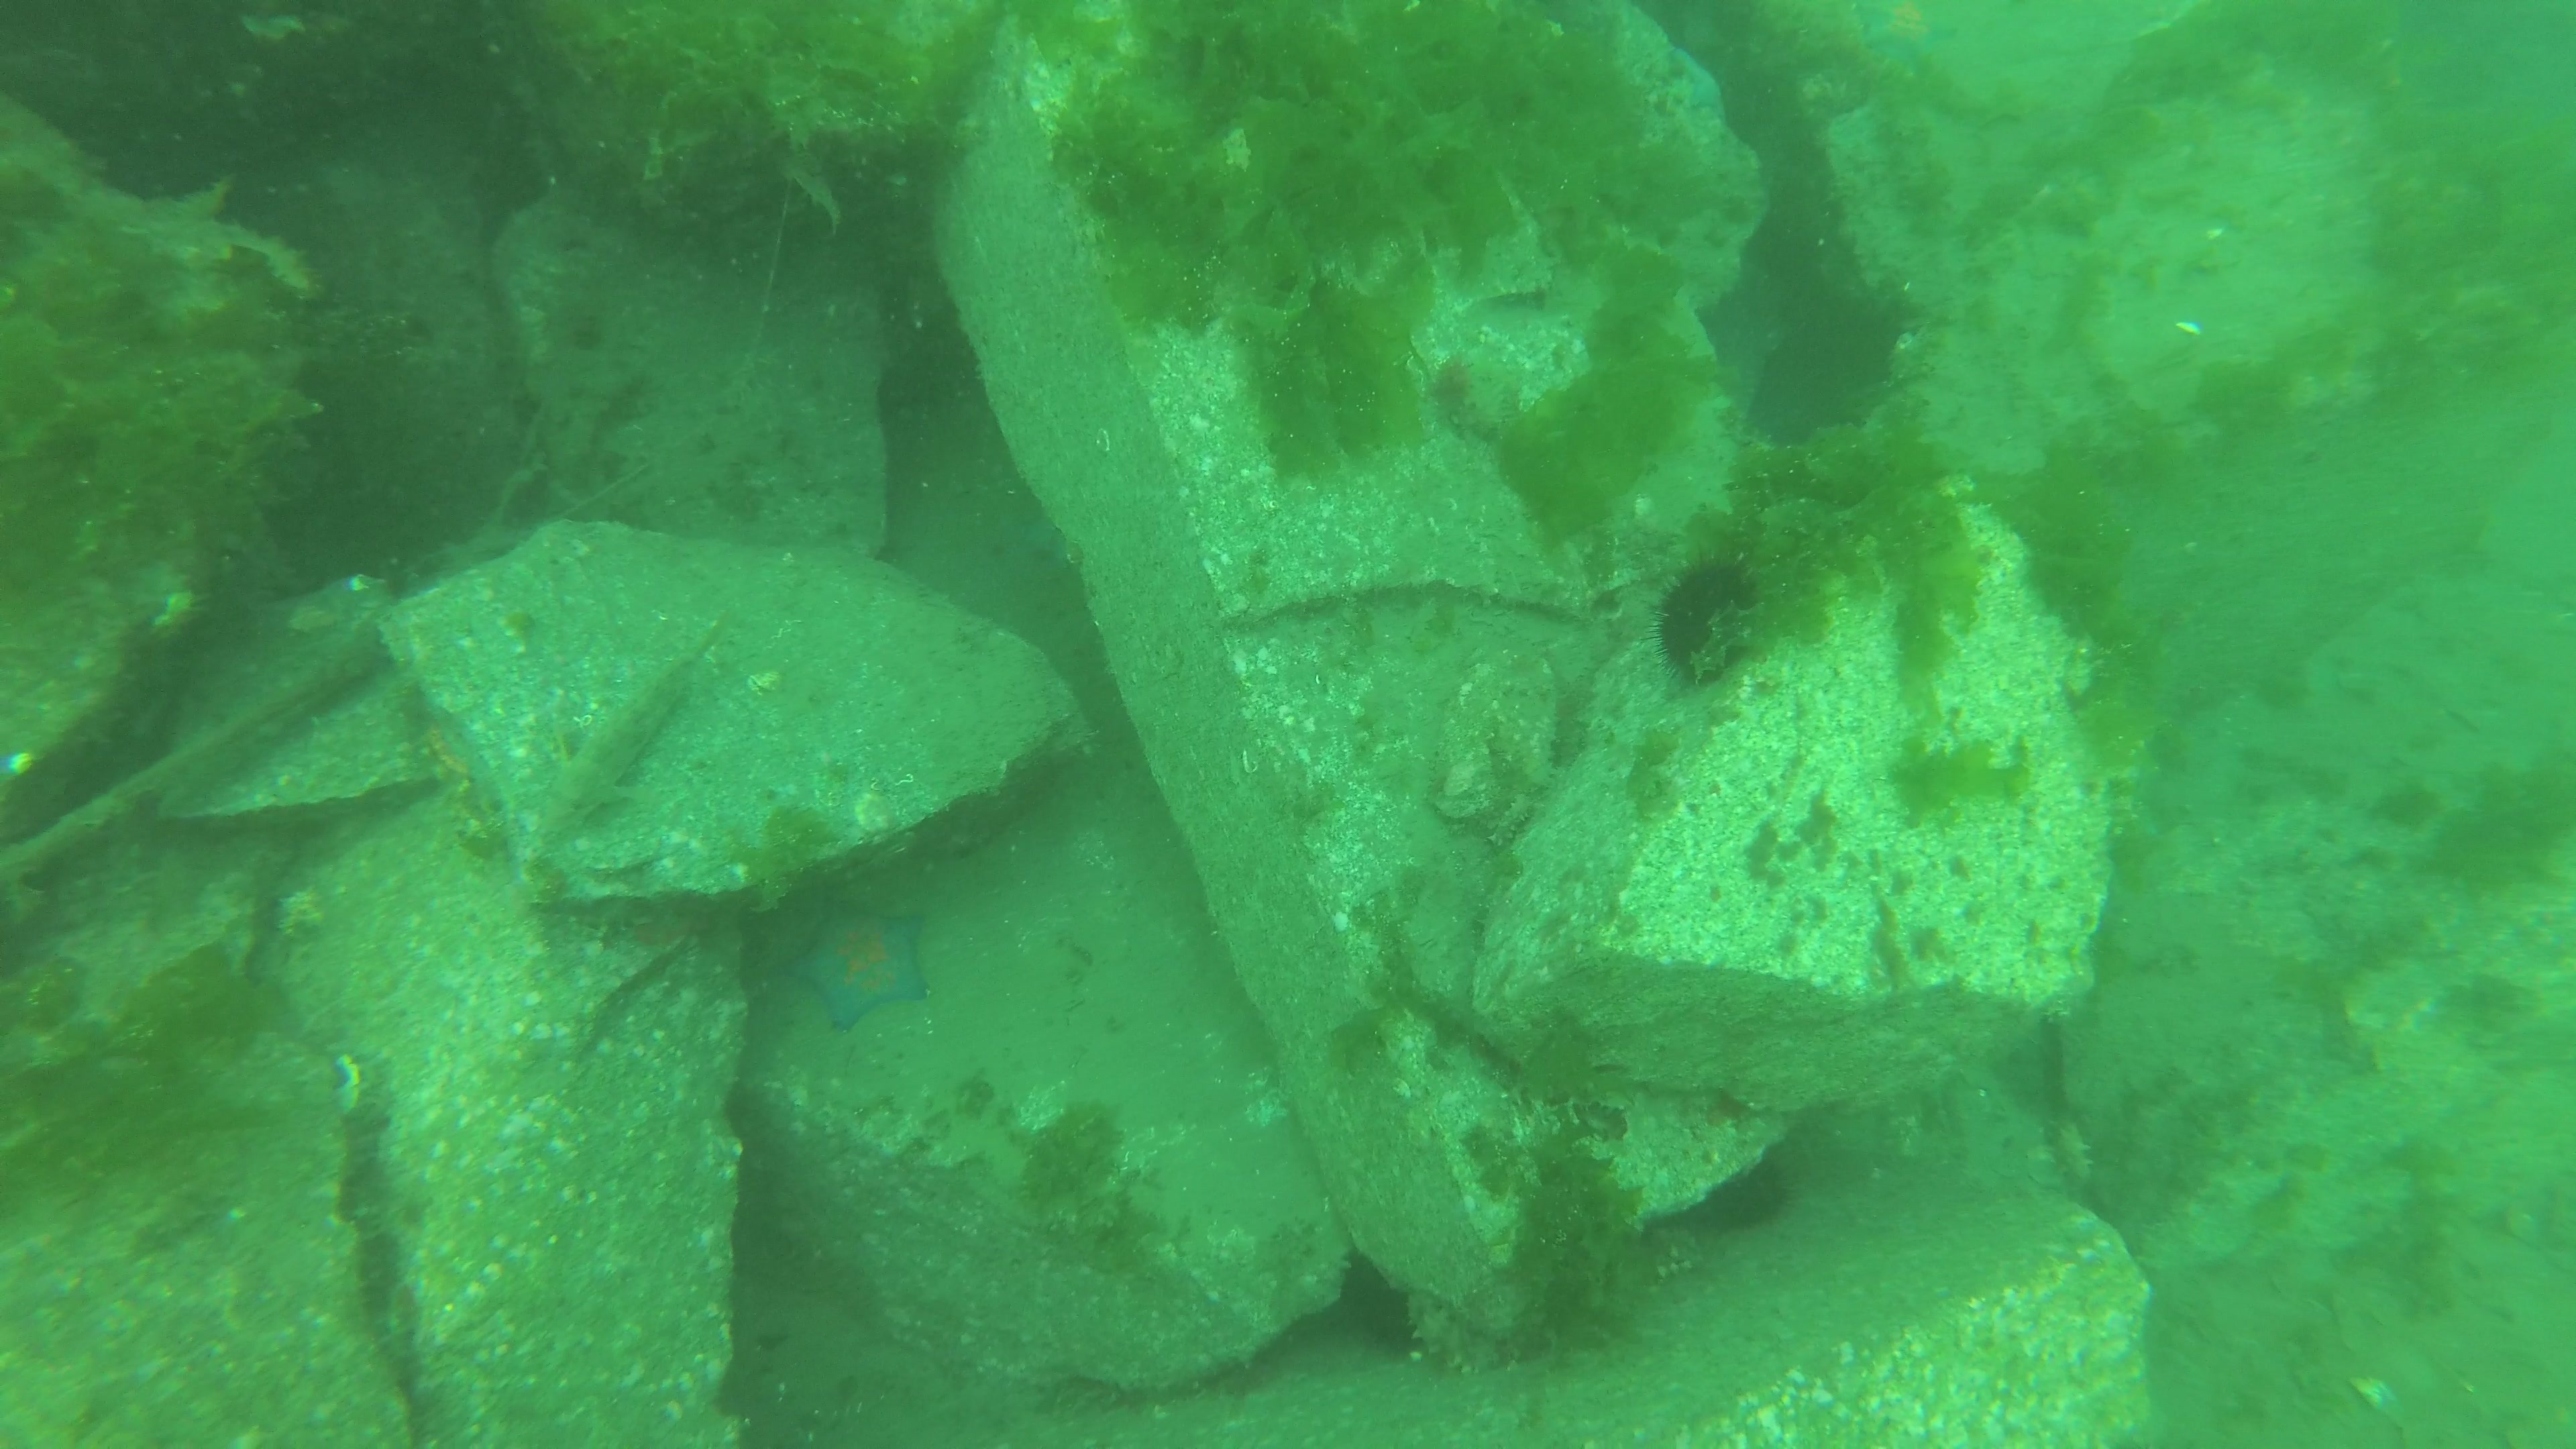echinus: (1651, 540, 1762, 692), (1697, 1161, 1806, 1235)
holothurian: (1403, 1290, 1504, 1380), (2043, 1113, 2097, 1185), (1484, 793, 1532, 849)
starfish: (782, 904, 932, 1035), (1024, 513, 1074, 570)
